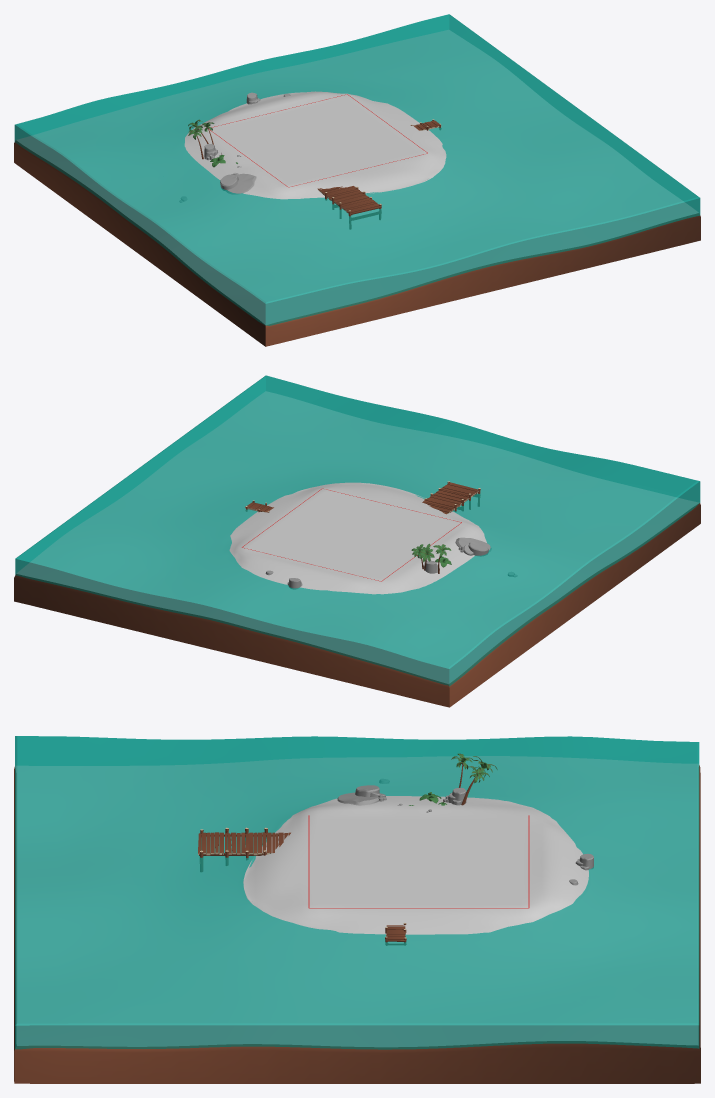
File: all.fbx
The picture shows the model from 3 angles, top to bottom: view 1: azimuth 30°, elevation 25°; view 2: azimuth 150°, elevation 25°; view 3: azimuth 270°, elevation 25°; orthographic projection. The views are drawn at different scales.
Parts seen in each view (by area): view 1: ground, water, jetty; view 2: ground, water, jetty; view 3: ground, water, jetty.
Boxes of the visible parts, x1=… form: ground: x1=14, y1=30, x2=700, y2=346; water: x1=14, y1=14, x2=700, y2=325; jetty: x1=179, y1=92, x2=441, y2=229; ground: x1=14, y1=391, x2=700, y2=707; water: x1=15, y1=375, x2=700, y2=686; jetty: x1=242, y1=481, x2=517, y2=589; ground: x1=14, y1=756, x2=700, y2=1083; water: x1=15, y1=736, x2=699, y2=1049; jetty: x1=198, y1=753, x2=593, y2=945.
Size of the model in its own units: 12.51 by 2.13 by 12.52.
